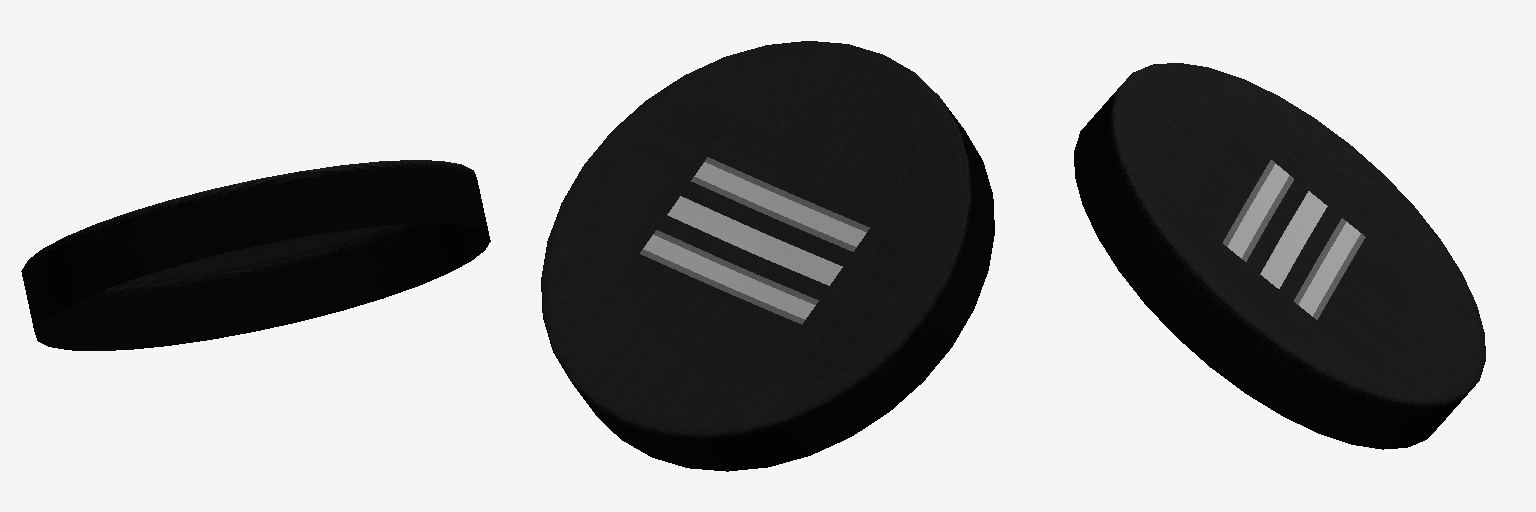
The picture shows the model from 3 angles: view 1: azimuth 30°, elevation 25°; view 2: azimuth 150°, elevation 25°; view 3: azimuth 270°, elevation 25°; orthographic projection.
Parts seen in each view (by area): view 1: oculus_quest2_controller_left_button_menu; view 2: oculus_quest2_controller_left_button_menu; view 3: oculus_quest2_controller_left_button_menu.
Boxes of the visible parts, <box> form: oculus_quest2_controller_left_button_menu: <box>21,160,490,350</box>; oculus_quest2_controller_left_button_menu: <box>541,41,994,471</box>; oculus_quest2_controller_left_button_menu: <box>1074,63,1485,449</box>.
Bounding box in the file's own units: 0.0091 × 0.0065 × 0.008.
Materials: 1 (1 with a texture image).